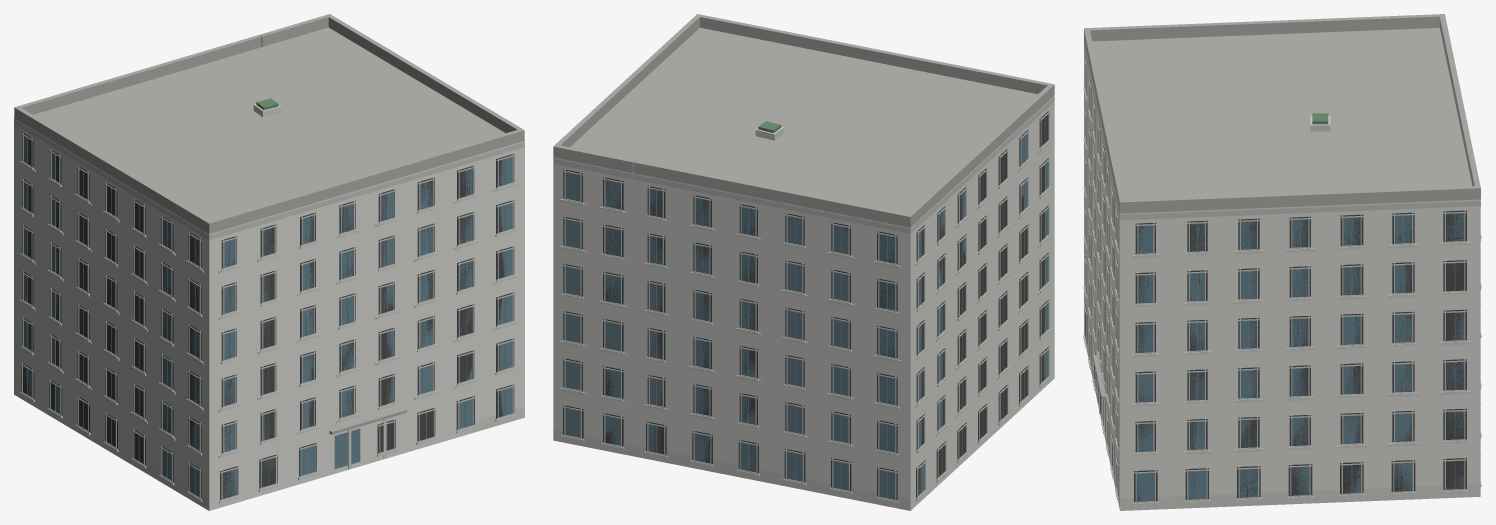
The model's file is cop_residencial_anos70_03__way_586695368.fbx.
3 views of the same model, side by side, from view 1: azimuth 30°, elevation 25°; view 2: azimuth 150°, elevation 25°; view 3: azimuth 270°, elevation 25° (orthographic). The views are drawn at different scales.
Visible parts, largest first — view 1: cop_residencial_anos70_03__way_586695368_wall, cop_residencial_anos70_03__way_586695368_roof, cop_residencial_anos70_03__way_586695368_shadow, cop_residencial_anos70_03__way_586695368_trim, cop_residencial_anos70_03__way_586695368_glass, cop_residencial_anos70_03__way_586695368_stone, cop_residencial_anos70_03__way_586695368_metal; view 2: cop_residencial_anos70_03__way_586695368_wall, cop_residencial_anos70_03__way_586695368_roof, cop_residencial_anos70_03__way_586695368_glass, cop_residencial_anos70_03__way_586695368_shadow, cop_residencial_anos70_03__way_586695368_trim, cop_residencial_anos70_03__way_586695368_stone, cop_residencial_anos70_03__way_586695368_metal; view 3: cop_residencial_anos70_03__way_586695368_wall, cop_residencial_anos70_03__way_586695368_roof, cop_residencial_anos70_03__way_586695368_shadow, cop_residencial_anos70_03__way_586695368_glass, cop_residencial_anos70_03__way_586695368_trim, cop_residencial_anos70_03__way_586695368_stone, cop_residencial_anos70_03__way_586695368_metal.
Boxes of the visible parts, left/top/right/bottom form: cop_residencial_anos70_03__way_586695368_wall: left=14, top=118, right=524, bottom=510; cop_residencial_anos70_03__way_586695368_roof: left=14, top=14, right=524, bottom=434; cop_residencial_anos70_03__way_586695368_shadow: left=21, top=132, right=514, bottom=500; cop_residencial_anos70_03__way_586695368_trim: left=14, top=119, right=524, bottom=500; cop_residencial_anos70_03__way_586695368_glass: left=23, top=136, right=512, bottom=498; cop_residencial_anos70_03__way_586695368_stone: left=16, top=104, right=524, bottom=510; cop_residencial_anos70_03__way_586695368_metal: left=27, top=138, right=505, bottom=497; cop_residencial_anos70_03__way_586695368_wall: left=553, top=95, right=1054, bottom=510; cop_residencial_anos70_03__way_586695368_roof: left=553, top=14, right=1054, bottom=227; cop_residencial_anos70_03__way_586695368_glass: left=565, top=133, right=1048, bottom=499; cop_residencial_anos70_03__way_586695368_shadow: left=563, top=111, right=1049, bottom=500; cop_residencial_anos70_03__way_586695368_trim: left=553, top=96, right=1054, bottom=501; cop_residencial_anos70_03__way_586695368_stone: left=553, top=127, right=1052, bottom=510; cop_residencial_anos70_03__way_586695368_metal: left=572, top=117, right=1045, bottom=498; cop_residencial_anos70_03__way_586695368_wall: left=1084, top=41, right=1480, bottom=510; cop_residencial_anos70_03__way_586695368_roof: left=1084, top=14, right=1480, bottom=399; cop_residencial_anos70_03__way_586695368_shadow: left=1085, top=58, right=1466, bottom=502; cop_residencial_anos70_03__way_586695368_glass: left=1098, top=213, right=1464, bottom=501; cop_residencial_anos70_03__way_586695368_trim: left=1084, top=42, right=1480, bottom=503; cop_residencial_anos70_03__way_586695368_stone: left=1083, top=87, right=1481, bottom=510; cop_residencial_anos70_03__way_586695368_metal: left=1085, top=65, right=1455, bottom=501.
Bounding box in the file's own units: 2452 × 1869 × 2185.
